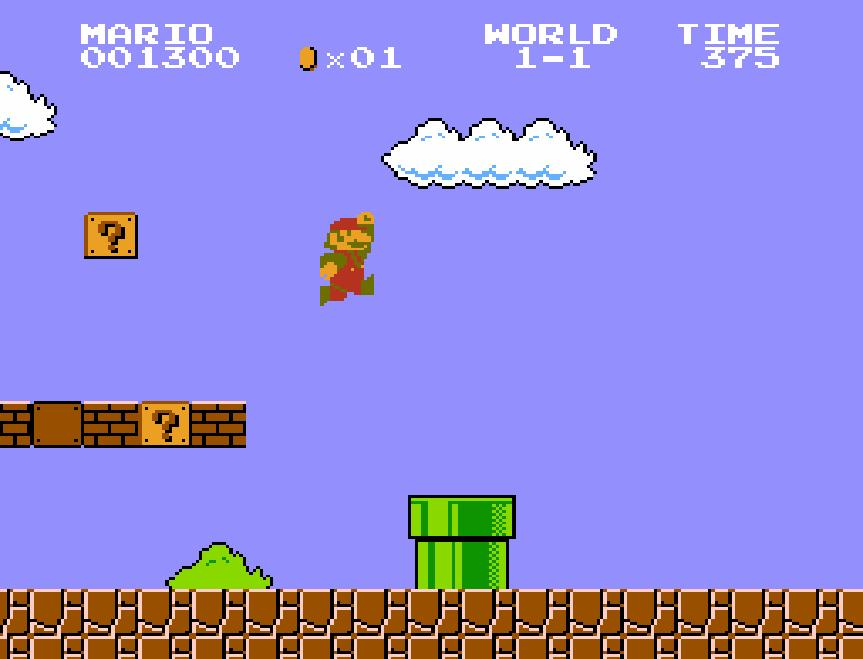big_mario: (318, 210, 376, 308)
